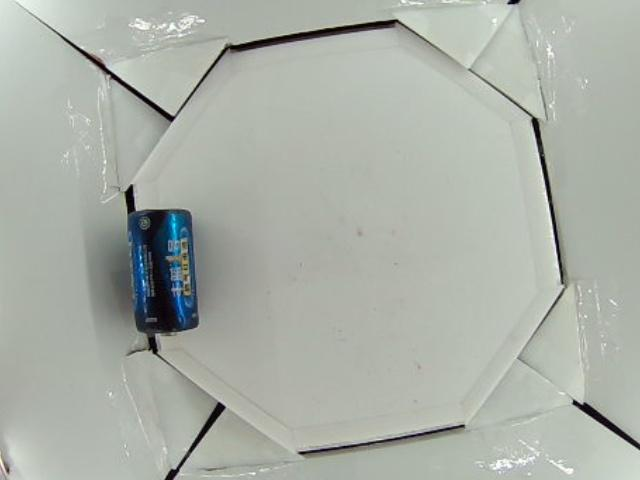Battery: (130, 208, 198, 338)
